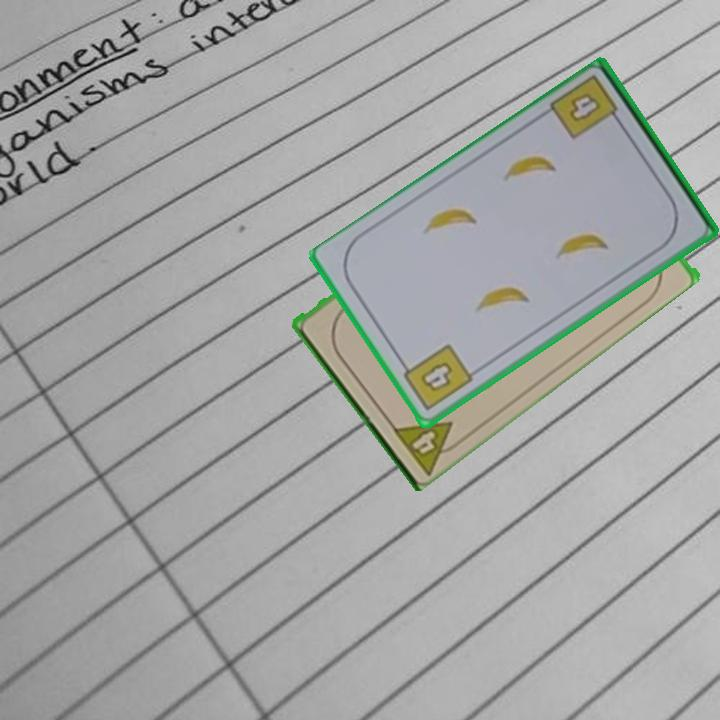4b: (396, 340, 477, 414), (546, 71, 626, 143)
4p: (387, 416, 468, 476)
